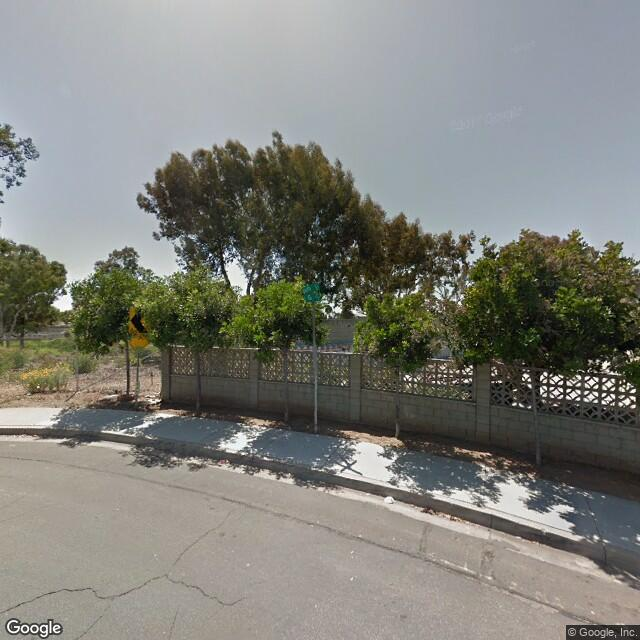litter: (378, 489, 401, 510)
